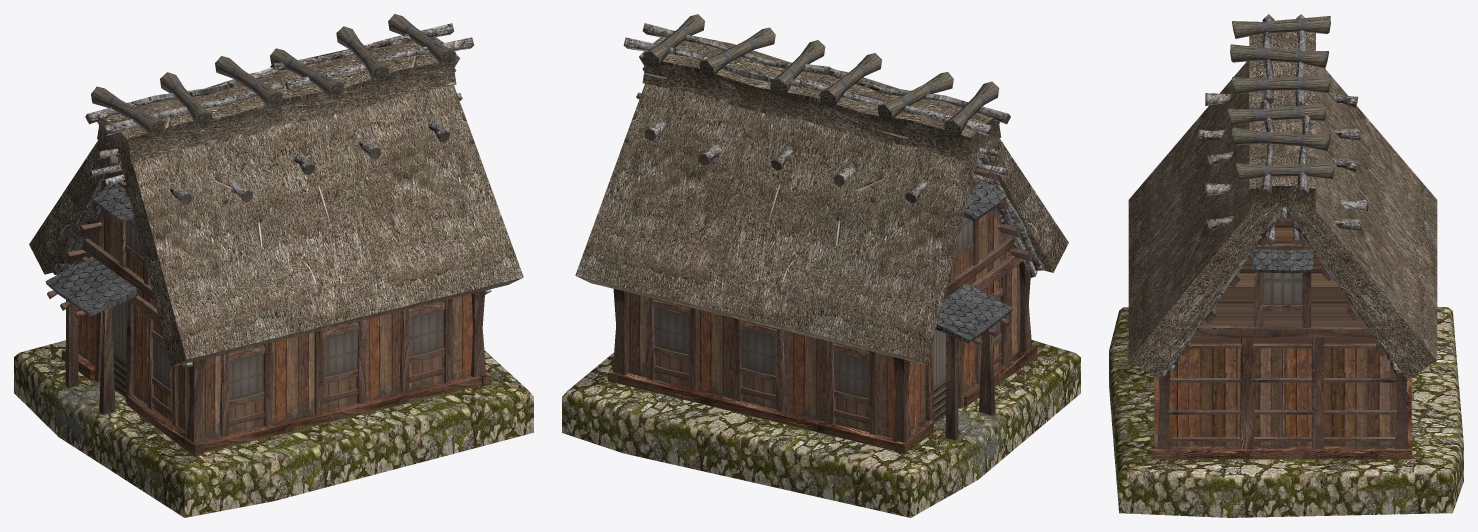
File: mdl_klemes_house.glb
3 renders of one model, left to right at view 1: azimuth 30°, elevation 25°; view 2: azimuth 150°, elevation 25°; view 3: azimuth 270°, elevation 25°, orthographic. The views are drawn at different scales.
Visible parts, largest first — view 1: House; view 2: House; view 3: House.
Part boxes in pixels (<box>): House: <box>14,14,533,517</box>; House: <box>562,14,1080,517</box>; House: <box>1109,14,1463,517</box>.
Size of the model in its own units: 2.57 by 2.23 by 2.11.
Materials: 1 (1 with a texture image).
